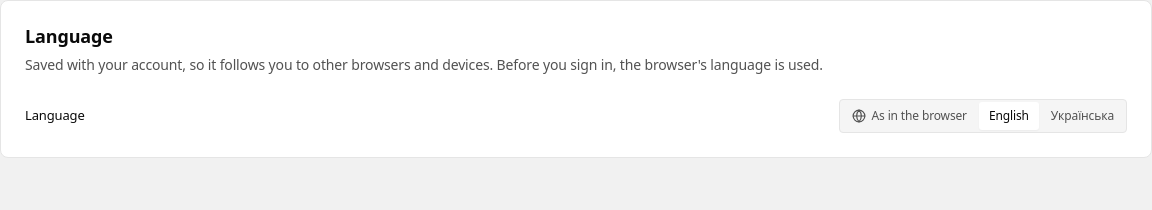
LanguageCard › saves As in the browser as no language of the account's own
Click the radio button labelled "As in the browser" at (909, 116), box [842,102,977,130]
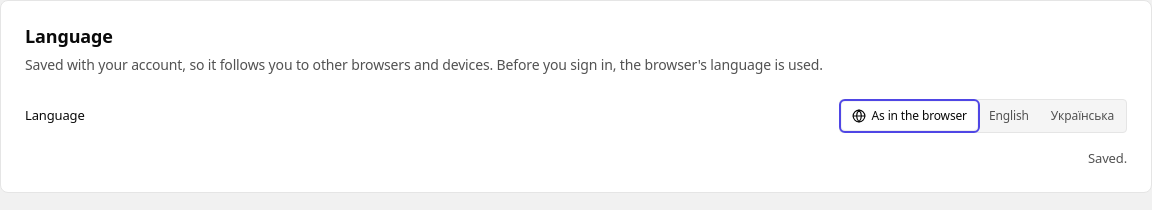
Result: the message reads "Saved." at [1088,148,1127,166]
